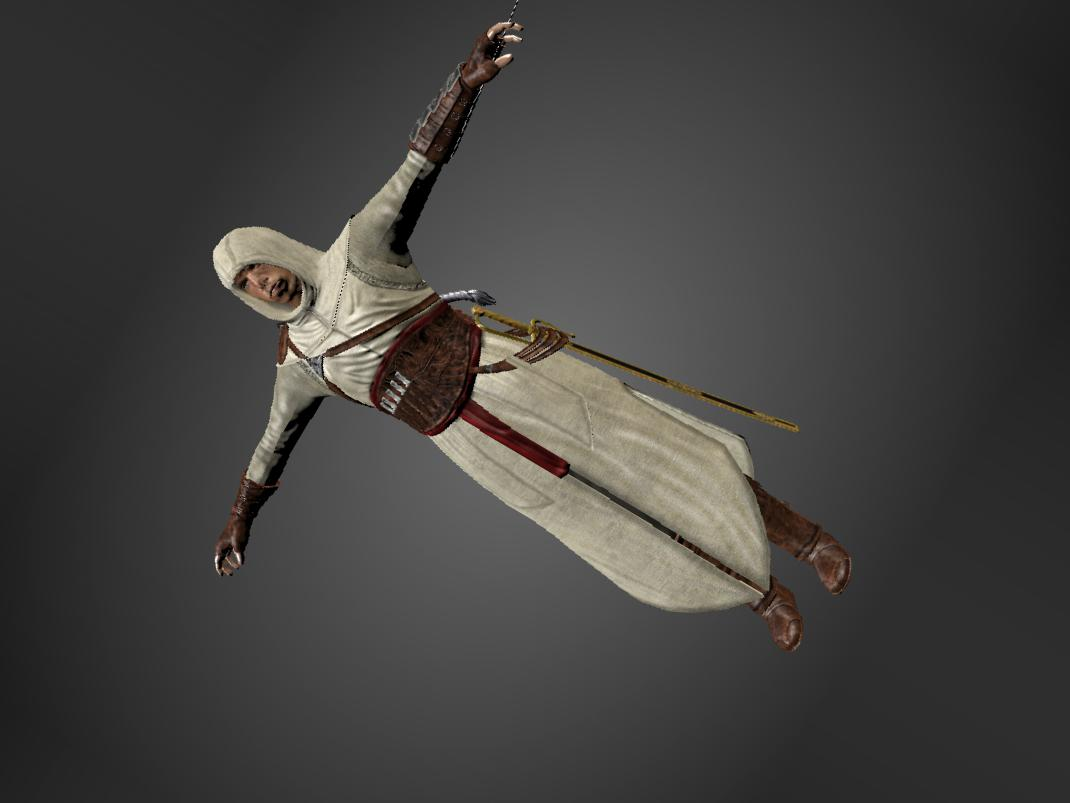clip: (498, 348, 532, 374)
